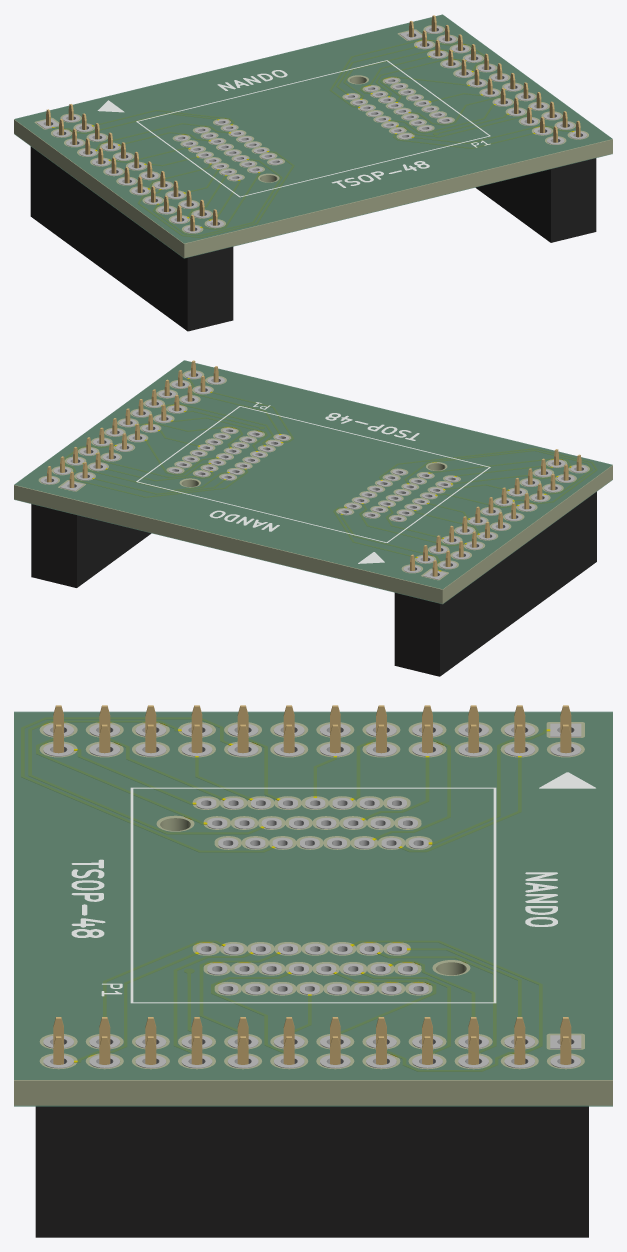
Rendered from board.glb.
3 renders of one model, top to bottom at view 1: azimuth 30°, elevation 25°; view 2: azimuth 150°, elevation 25°; view 3: azimuth 270°, elevation 25°, orthographic. The views are drawn at different scales.
Parts seen in each view (by area): view 1: board_PCB, board_soldermask (×2), PinSocket_2x12_P2.54mm_Vertical (×2), board_pad, board_copper, board_silkscreen; view 2: board_PCB, board_soldermask (×2), PinSocket_2x12_P2.54mm_Vertical (×2), board_pad, board_copper, board_silkscreen; view 3: board_PCB, board_soldermask (×2), PinSocket_2x12_P2.54mm_Vertical (×2), board_pad, board_copper, board_silkscreen.
Boxes of the visible parts, bbox=[...] form: board_PCB: bbox=[14, 15, 612, 257]; board_soldermask (×2): bbox=[14, 14, 612, 258]; PinSocket_2x12_P2.54mm_Vertical (×2): bbox=[30, 15, 596, 331]; board_pad: bbox=[36, 26, 586, 233]; board_copper: bbox=[52, 40, 574, 237]; board_silkscreen: bbox=[97, 60, 490, 197]; board_PCB: bbox=[14, 361, 612, 603]; board_soldermask (×2): bbox=[14, 360, 612, 604]; PinSocket_2x12_P2.54mm_Vertical (×2): bbox=[31, 360, 596, 676]; board_pad: bbox=[40, 371, 587, 579]; board_copper: bbox=[65, 378, 596, 571]; board_silkscreen: bbox=[136, 402, 490, 563]; board_PCB: bbox=[14, 713, 612, 1105]; board_soldermask (×2): bbox=[14, 711, 612, 1106]; PinSocket_2x12_P2.54mm_Vertical (×2): bbox=[35, 705, 588, 1237]; board_pad: bbox=[43, 723, 581, 1068]; board_copper: bbox=[21, 718, 550, 1071]; board_silkscreen: bbox=[71, 772, 595, 1003].
Size of the model in its own units: 0.048 by 0.0116 by 0.033.
